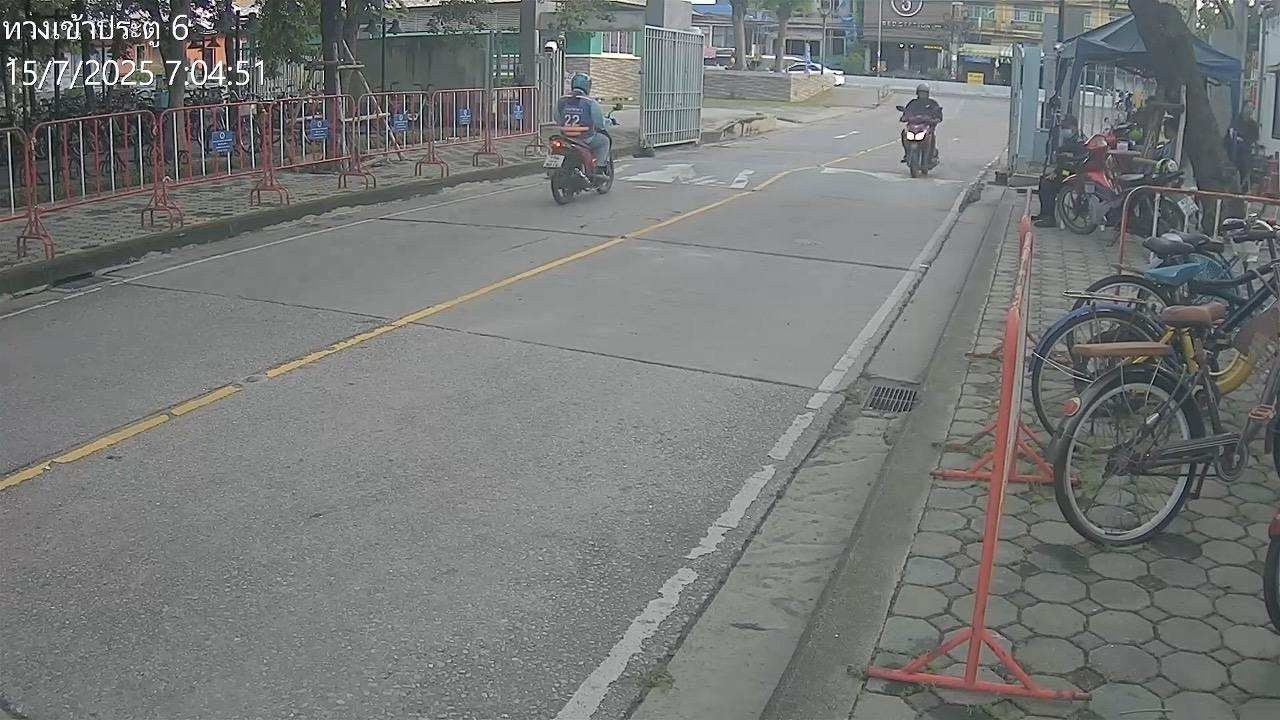With-Helmet: (571, 71, 592, 91), (916, 82, 931, 98)
